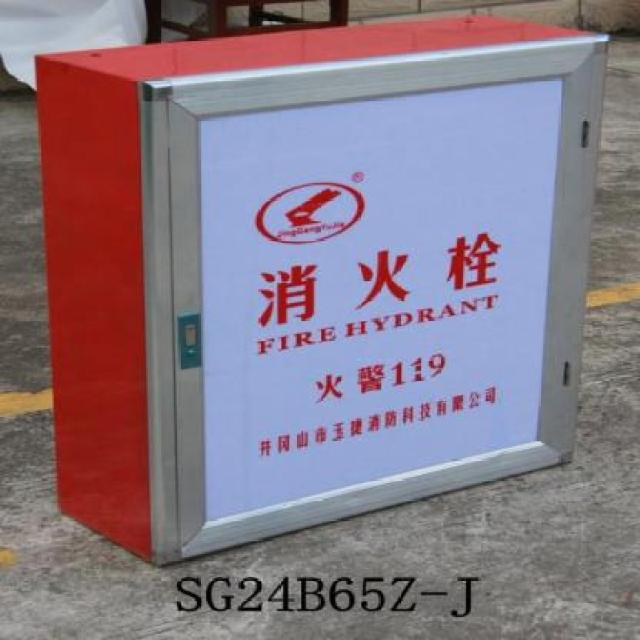firehydrant: (29, 8, 618, 574)
